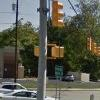Traffic light: (44, 0, 73, 32)
